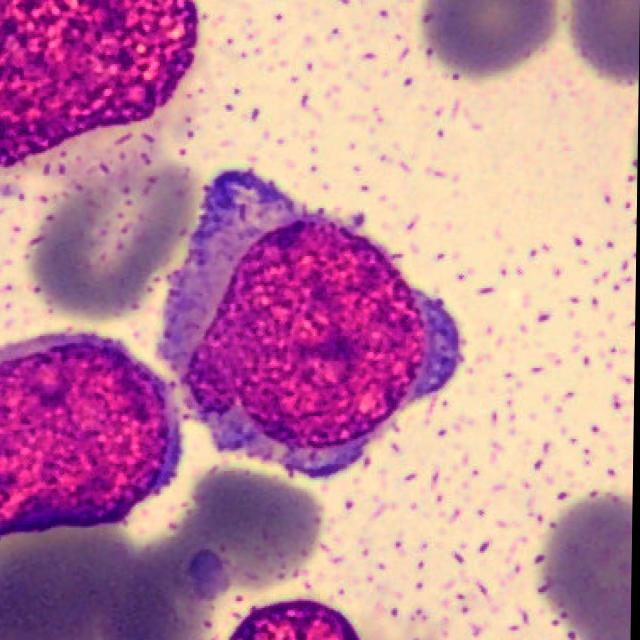Mieloblasto: (164, 171, 462, 478), (0, 336, 182, 544)
